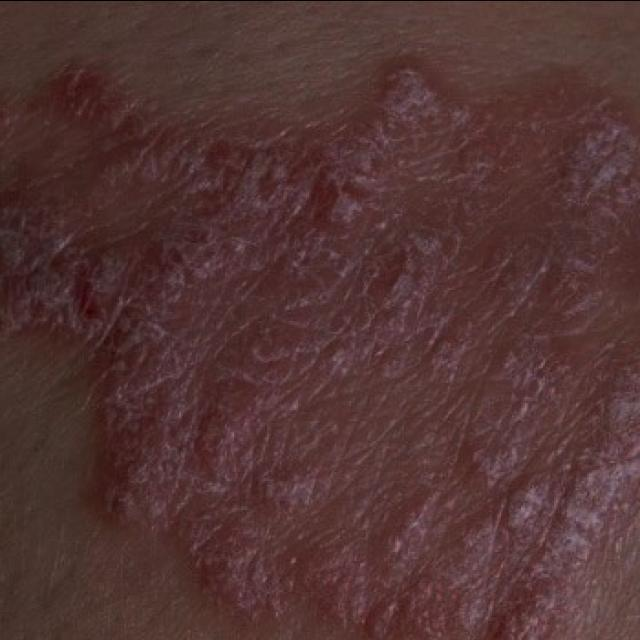Psoriasis: (14, 45, 640, 639)
